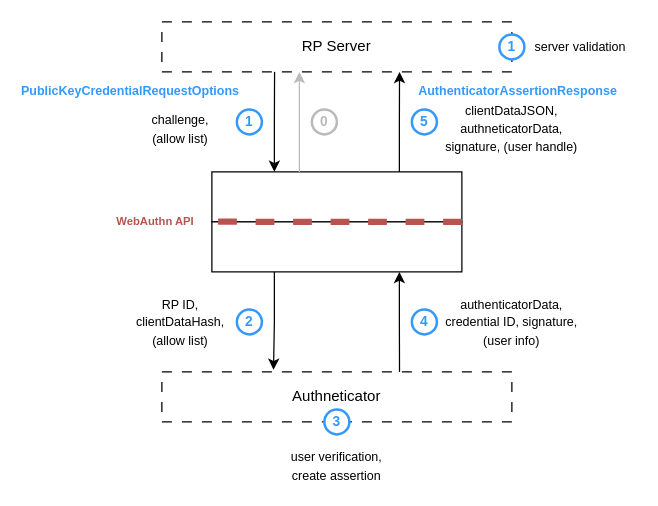
The diagram is 658 pixels wide and 506 high, and some of its shapes have lost their labels. Each missing label, with the centre of its shape:
Browser: the point at 336,246
RP JavaScript Application: the point at 336,196
